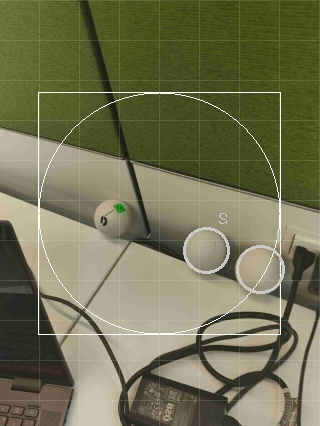Pelota blanca: (228, 374, 297, 425), (234, 244, 286, 294), (183, 225, 233, 275), (93, 198, 135, 240)
